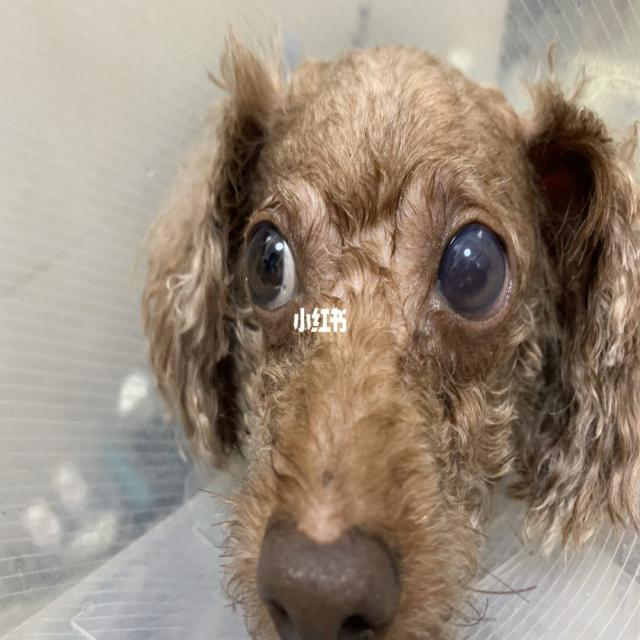eye: (428, 210, 516, 330), (237, 217, 302, 318)
